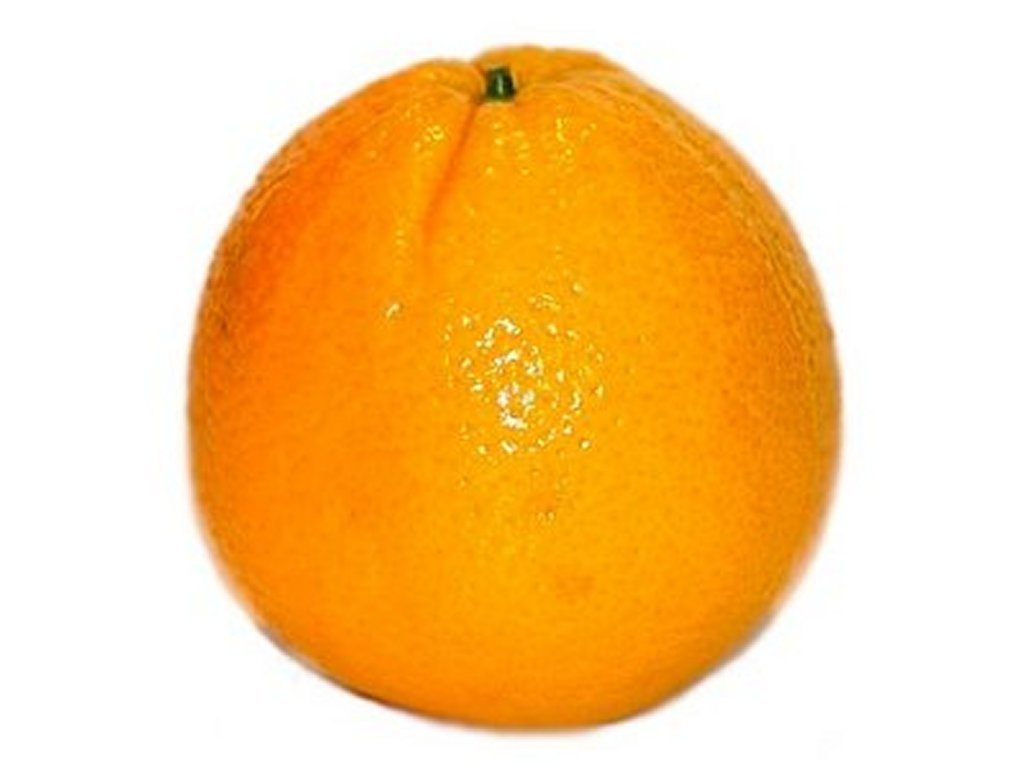orange: (191, 43, 853, 746)
